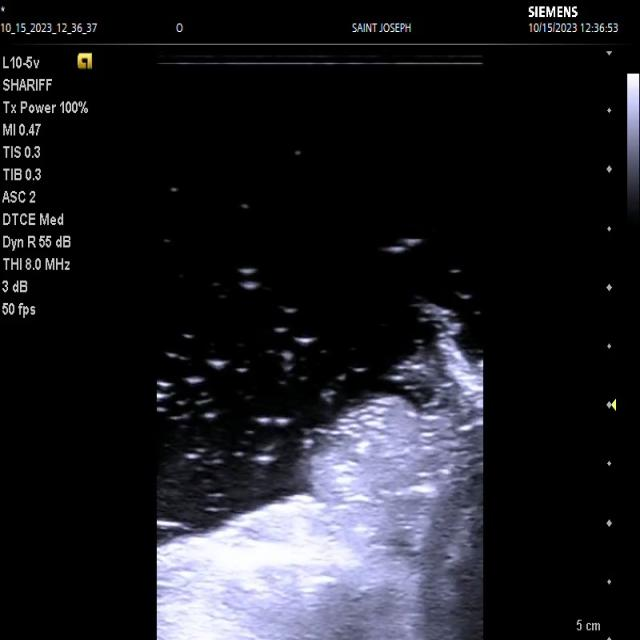tissue: (158, 298, 486, 640)
